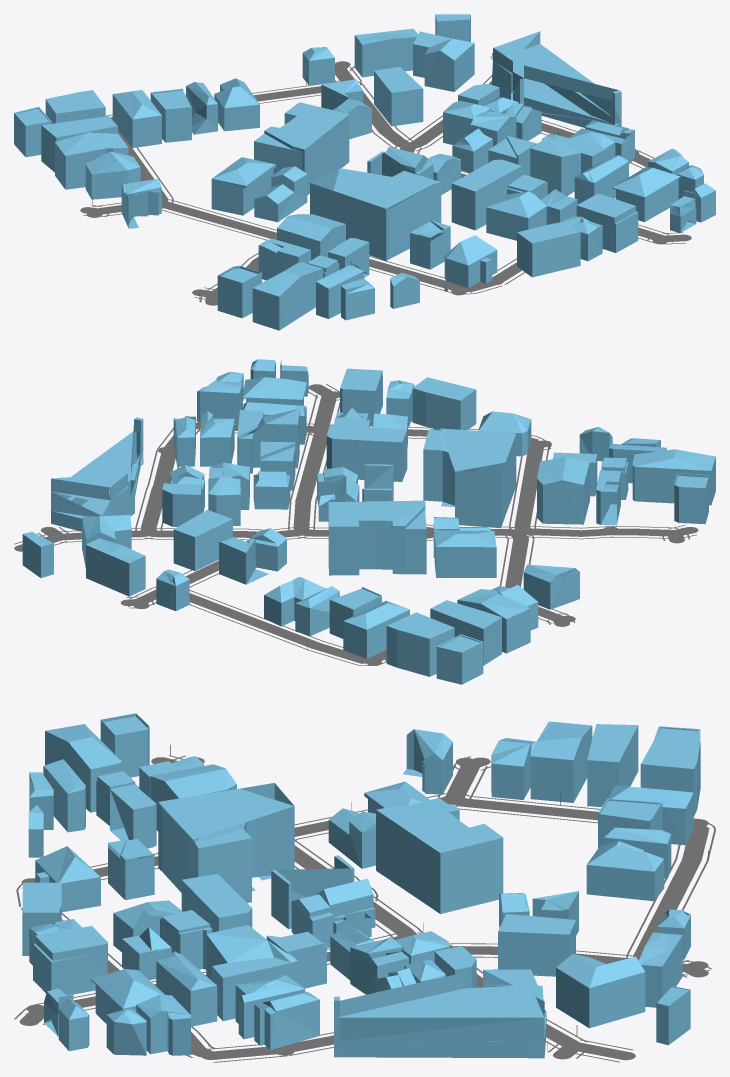
Rendered from results_route2_lod2.obj.
3 views of the same model, one above another, from view 1: azimuth 30°, elevation 25°; view 2: azimuth 150°, elevation 25°; view 3: azimuth 270°, elevation 25° (orthographic). The views are drawn at different scales.
Bounding box in the file's own units: 147 × 14.85 × 142.
